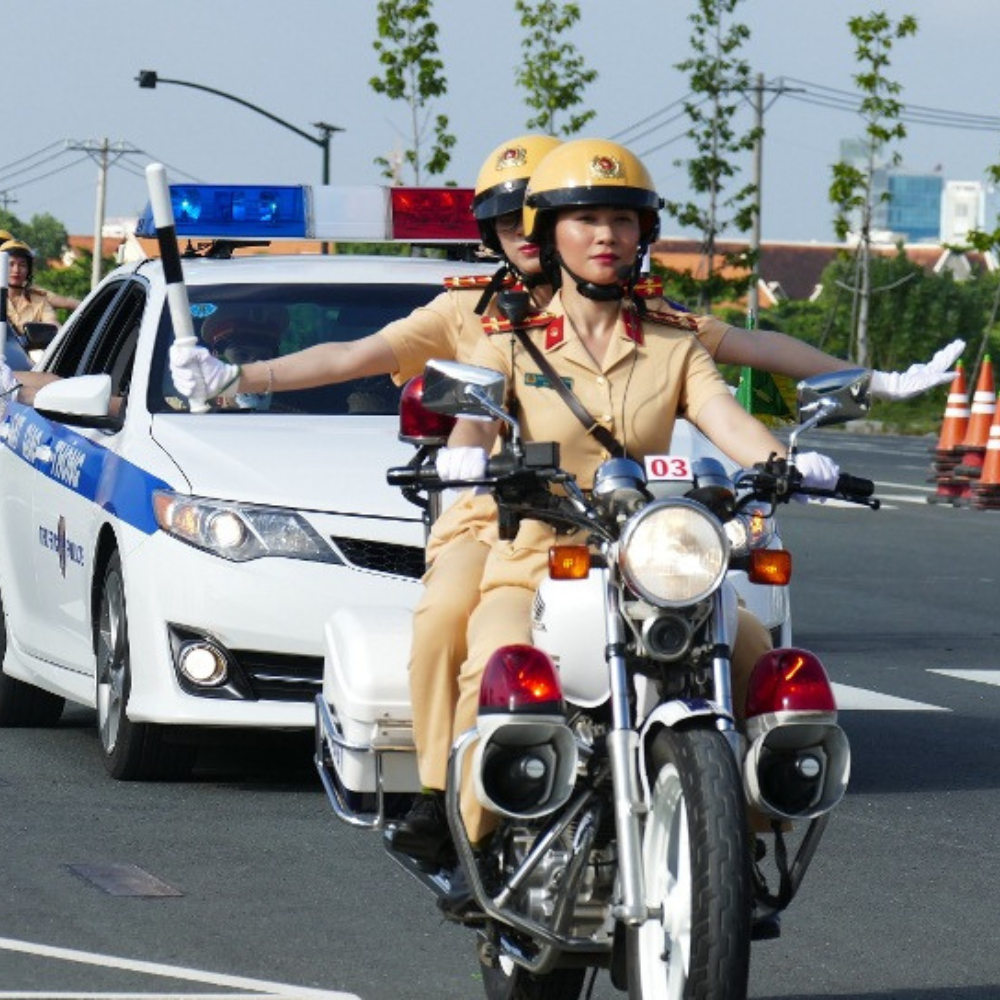oto: (0, 10, 971, 1000)
